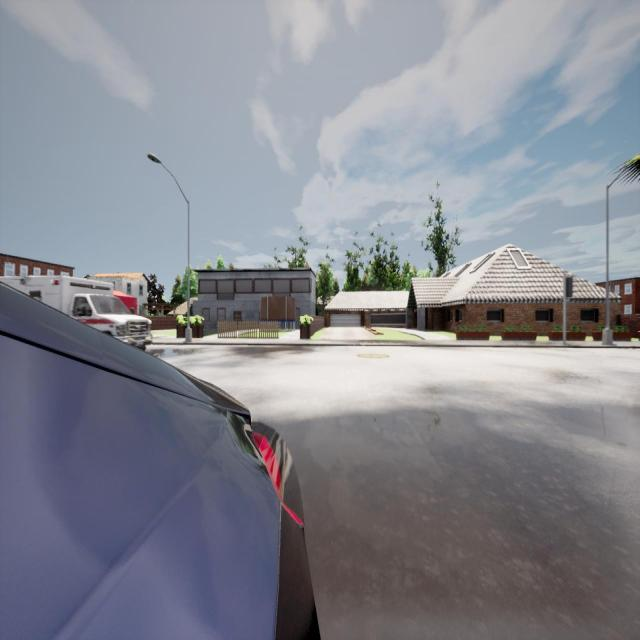Vehicle: (0, 283, 318, 637), (0, 275, 153, 354)
traffic_light: (566, 276, 573, 299)
